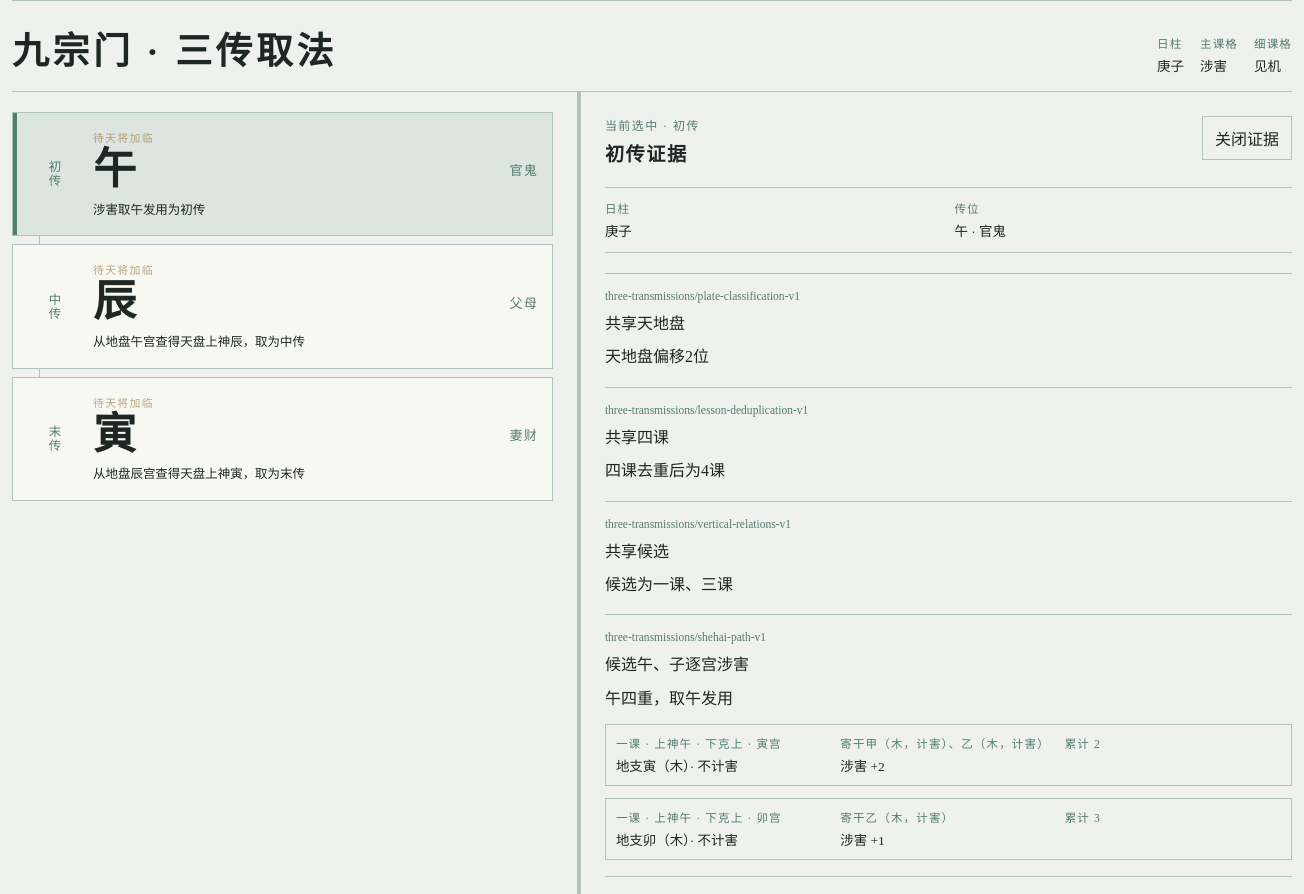
Test case: ThreeTransmissionsReview › returns focus after close and exposes upstream reviews
Later steps or results of the test are not shown.
Expected: the heading "初传证据" is shown, [605,139,700,167]
Expected: the text "共享天地盘" is shown, [605,315,685,332]
Click the button "待天将加临 辰 中传 父母 从地盘午宫查得天盘上神辰，取为中传".
click(123, 270)  # box [12,244,553,369]
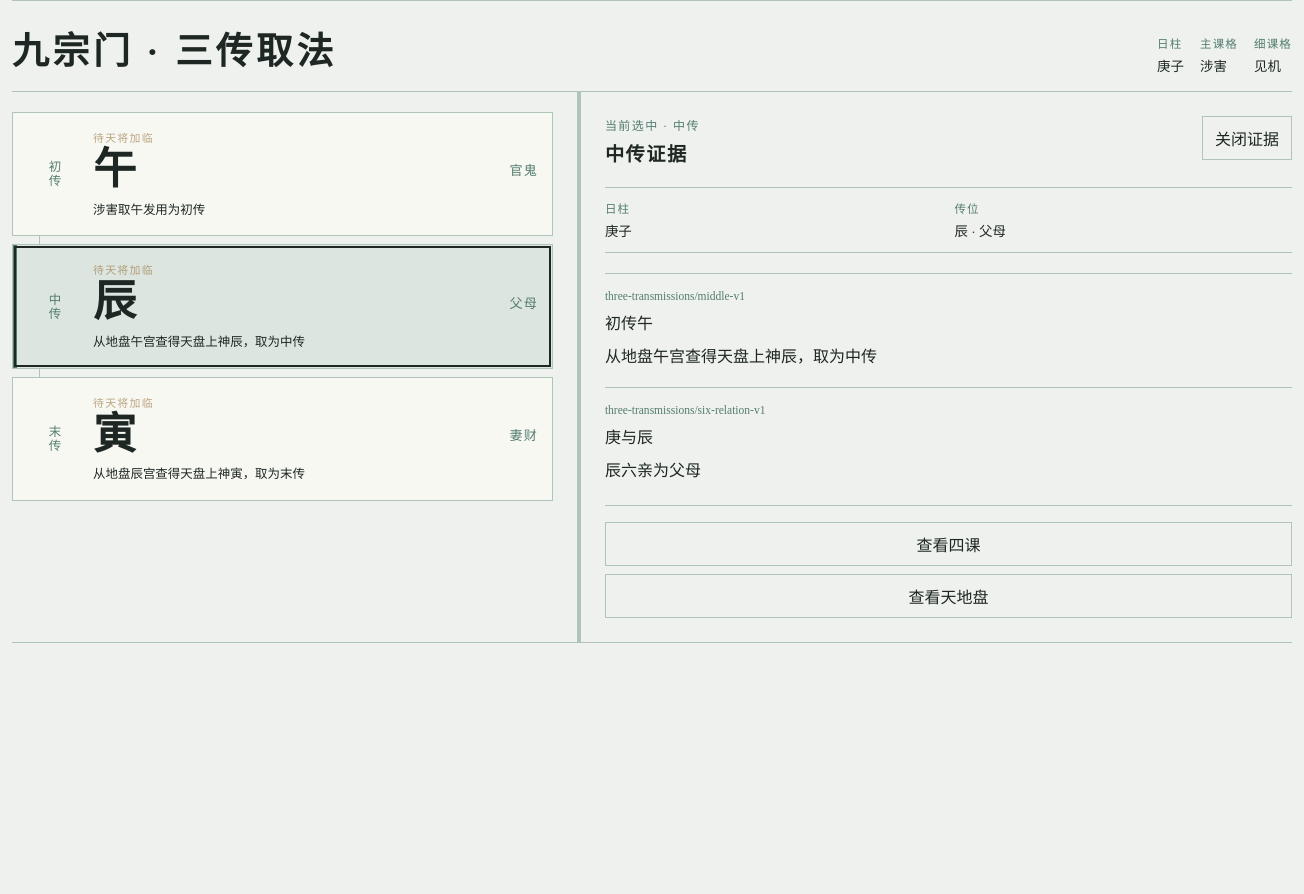
Now the button "待天将加临 辰 中传 父母 从地盘午宫查得天盘上神辰，取为中传" is expanded, box [12,244,553,369]
Now the heading "中传证据" is shown, box [605,139,700,167]
Now the text "从地盘午宫查得天盘上神辰，取为中传" below "three-transmissions/middle-v1" is shown, box [605,348,877,365]
